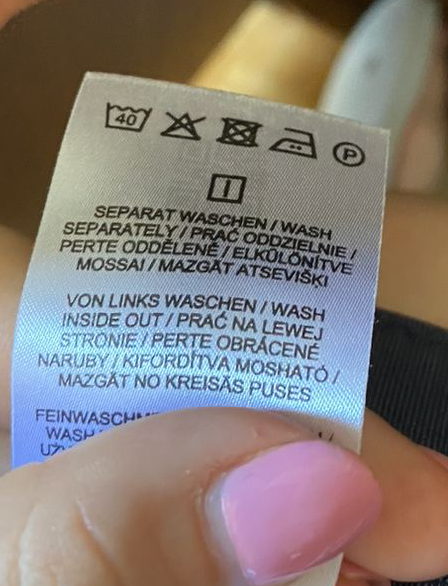do_not_bleach: (158, 110, 209, 140)
do_not_tumble_drying: (214, 116, 263, 149)
ironing_at_med_temp: (269, 126, 319, 158), (331, 138, 366, 171)
line_dry: (205, 172, 248, 204)
wash_at_or_below_40: (102, 102, 153, 134)
